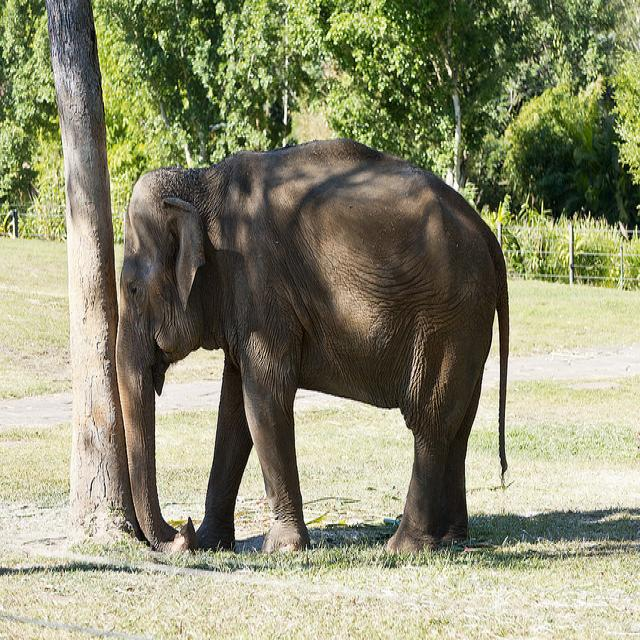Elephant: (114, 136, 510, 560)
